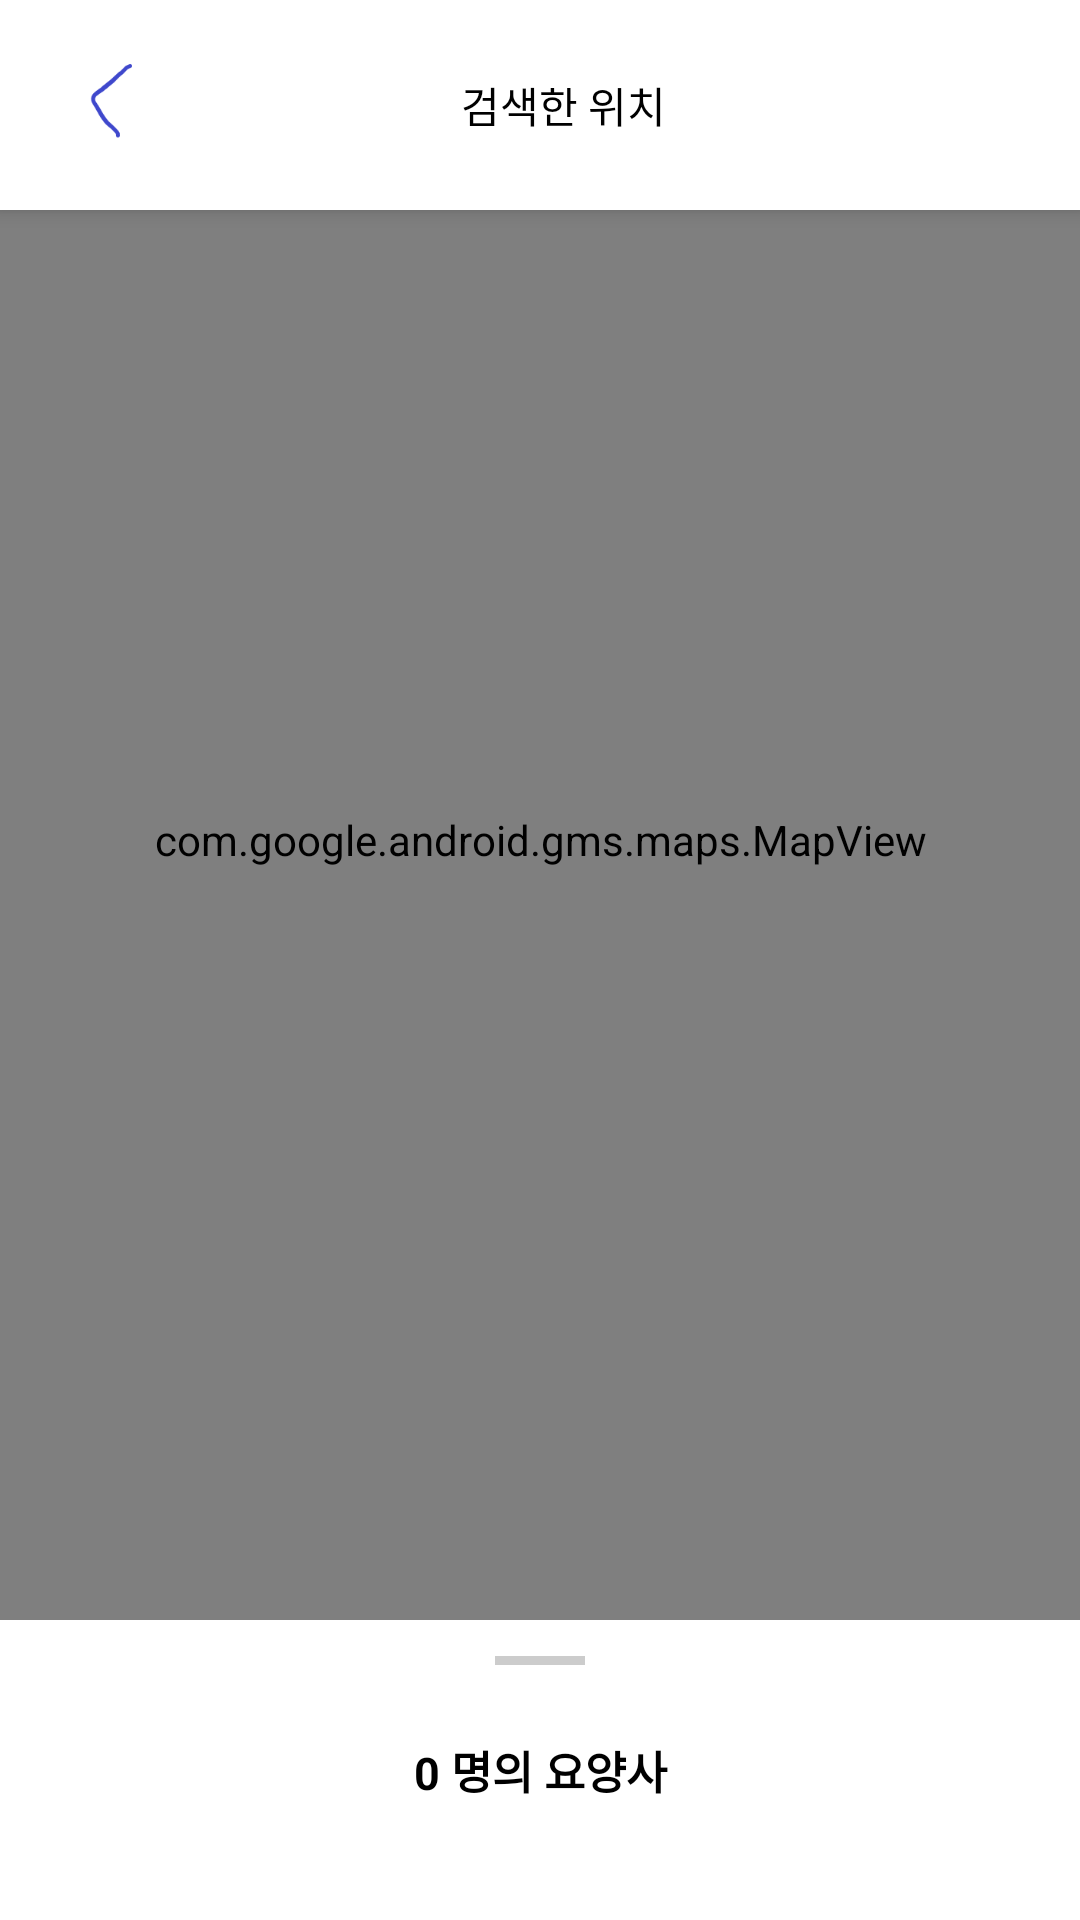

Locate icon controls on the screen. Image size 1080×1920, boxes as (x1, y1, x2, y2).
backbtn: (91, 64, 132, 138)
